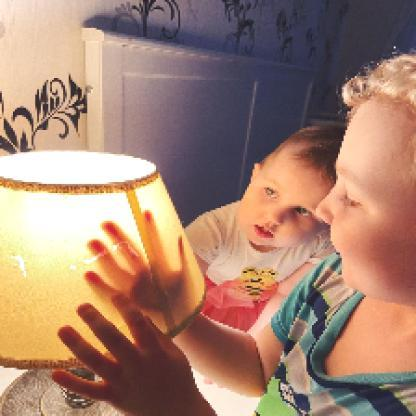child: (49, 55, 415, 416), (181, 122, 337, 334)
